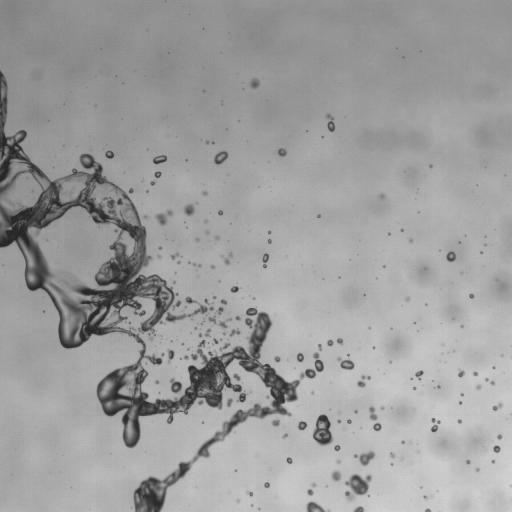droplet: (345, 473, 372, 502), (313, 414, 333, 445), (354, 451, 375, 466), (154, 209, 173, 225), (337, 357, 354, 369), (214, 151, 228, 164), (357, 375, 370, 387), (221, 252, 232, 265), (153, 155, 167, 164), (431, 418, 440, 432), (184, 204, 194, 216), (331, 470, 341, 481), (250, 78, 259, 88), (446, 251, 455, 261), (298, 421, 307, 430), (105, 150, 114, 158), (415, 370, 423, 379), (492, 403, 502, 410), (278, 148, 286, 156), (271, 418, 279, 426), (171, 252, 180, 259), (230, 285, 239, 292), (458, 369, 465, 377), (297, 353, 303, 362), (226, 398, 232, 407), (154, 171, 161, 178), (233, 373, 240, 380), (493, 445, 500, 452), (212, 338, 220, 344), (327, 339, 333, 346), (274, 356, 280, 362), (334, 445, 340, 451), (389, 452, 395, 458), (286, 457, 292, 463), (246, 490, 252, 496), (150, 180, 156, 185), (337, 338, 342, 344), (469, 293, 474, 298), (473, 371, 478, 376), (476, 384, 481, 389), (264, 482, 269, 487), (202, 191, 207, 195), (218, 210, 222, 215), (143, 215, 148, 219), (405, 296, 409, 301), (497, 434, 501, 439), (318, 344, 321, 350), (425, 508, 431, 511), (215, 236, 219, 240), (211, 265, 215, 269), (236, 316, 240, 320), (155, 380, 159, 384), (490, 381, 494, 385), (337, 419, 341, 423), (347, 419, 351, 423), (457, 419, 461, 423), (283, 434, 287, 438), (336, 459, 340, 463), (423, 495, 427, 499), (380, 194, 384, 197), (195, 238, 199, 241), (409, 238, 412, 242), (157, 255, 161, 258), (380, 406, 384, 409), (466, 460, 470, 463), (206, 140, 209, 143), (317, 214, 320, 217), (206, 231, 209, 234), (268, 239, 271, 242), (485, 378, 488, 381), (401, 440, 404, 443), (476, 468, 479, 471), (204, 220, 207, 222), (268, 231, 271, 233), (159, 246, 161, 249), (311, 391, 314, 393), (237, 499, 239, 502), (213, 296, 215, 298), (201, 322, 203, 324), (413, 387, 415, 389), (459, 401, 461, 403), (354, 410, 356, 412), (492, 460, 494, 462)
ligament: (0, 71, 323, 511), (369, 406, 381, 431), (306, 501, 330, 511), (326, 113, 335, 131), (167, 349, 175, 363), (307, 483, 315, 495), (262, 253, 268, 267), (353, 506, 364, 511), (193, 263, 200, 267)
